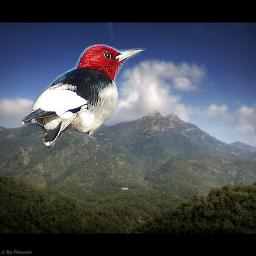Woodpecker: (21, 44, 147, 148)
